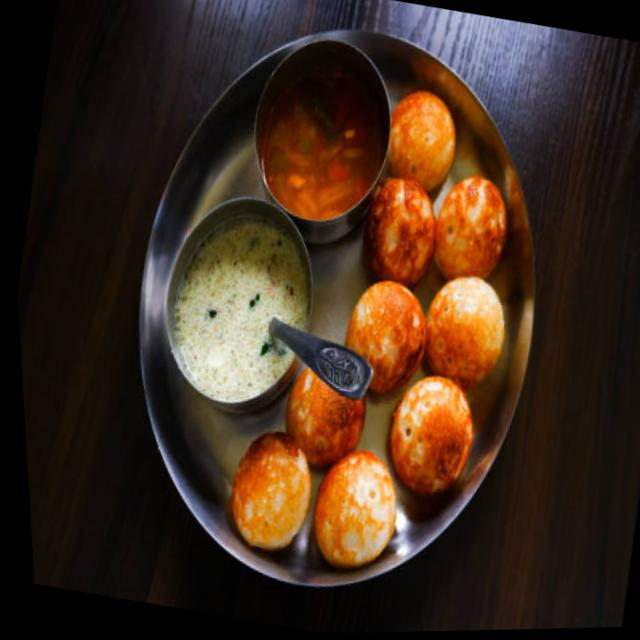SAMBAR: (264, 75, 374, 214)
WHITE CHUTNEY: (173, 224, 301, 395)
